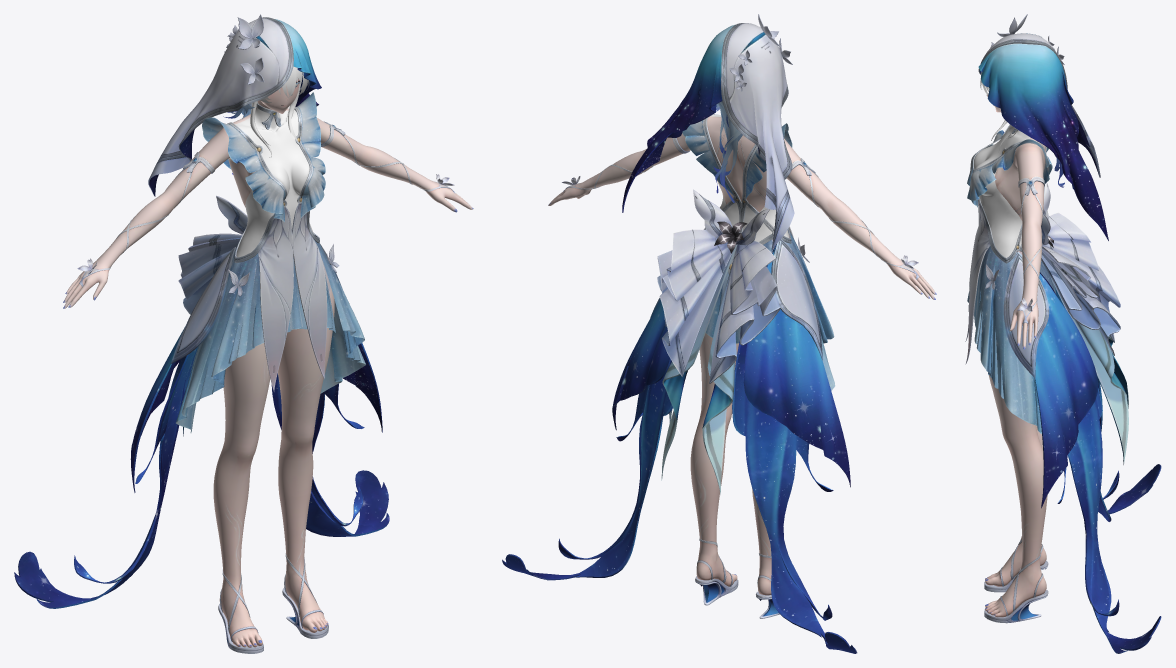
Rendered from shoerkeeper.glb.
The picture shows the model from 3 angles, left to right: view 1: azimuth 30°, elevation 25°; view 2: azimuth 150°, elevation 25°; view 3: azimuth 270°, elevation 25°; orthographic projection. The views are drawn at different scales.
Parts seen in each view (by area): view 1: object 38, MI_Down, MI_Up02, MI_Alpha, object 26, object 31, object 35, object 29, object 27, object 41, MI_Up03, object 39 (+3 smaller); view 2: object 27, MI_Up02, MI_Up03, object 31, MI_Down, object 38, object 30, object 41, object 35, MI_Alpha, object 28, MI_Hair (+1 smaller); view 3: object 30, object 27, MI_Up03, object 38, MI_Up02, MI_Down, MI_Alpha, object 41, object 25, object 35, object 26, object 31 (+3 smaller).
Part boxes in pixels (<box>): object 38: <box>213,260,334,653</box>; MI_Down: <box>63,100,473,308</box>; MI_Up02: <box>14,347,389,608</box>; MI_Alpha: <box>176,240,365,432</box>; object 26: <box>258,203,327,391</box>; object 31: <box>148,14,293,196</box>; object 35: <box>202,92,325,222</box>; object 29: <box>235,108,309,229</box>; object 27: <box>178,195,247,314</box>; object 41: <box>171,243,341,363</box>; MI_Up03: <box>130,327,382,492</box>; object 39: <box>246,254,335,353</box>; object 27: <box>657,189,780,494</box>; MI_Up02: <box>502,245,857,653</box>; MI_Up03: <box>612,245,850,487</box>; object 31: <box>721,14,794,250</box>; MI_Down: <box>548,114,936,299</box>; object 38: <box>690,234,789,618</box>; object 30: <box>622,24,759,212</box>; object 41: <box>650,228,822,360</box>; object 35: <box>682,120,792,198</box>; MI_Alpha: <box>669,232,835,422</box>; object 28: <box>663,370,730,428</box>; MI_Hair: <box>713,101,742,202</box>; object 30: <box>978,43,1108,240</box>; object 27: <box>1041,182,1128,463</box>; MI_Up03: <box>1035,273,1098,508</box>; object 38: <box>984,251,1048,623</box>; MI_Up02: <box>1039,272,1161,653</box>; MI_Down: <box>972,125,1046,349</box>; MI_Alpha: <box>974,246,1056,433</box>; object 41: <box>985,251,1049,378</box>; object 25: <box>979,171,1022,257</box>; object 35: <box>967,130,1052,207</box>; object 26: <box>965,199,990,364</box>; object 31: <box>978,14,1100,177</box>.
Size of the model in its own units: 2.81 by 4.1 by 1.25.
23 materials, 7 textured.
